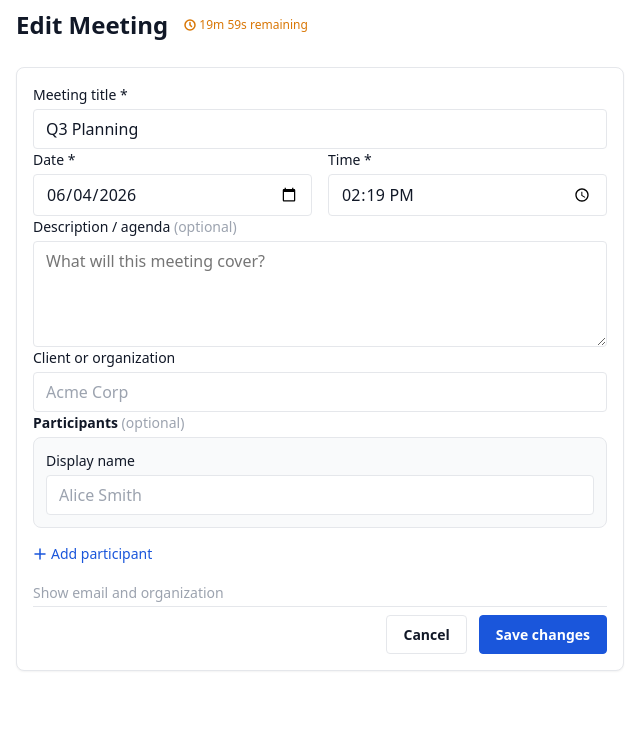
EditPage — server validation errors (FR-15) › shows "not editable" error when server says edit window expired
What coordinates should you click on to do the following:
click the button "Save changes"
I would click on:
 (543, 634)
Its box is x1=479 y1=615 x2=607 y2=654.
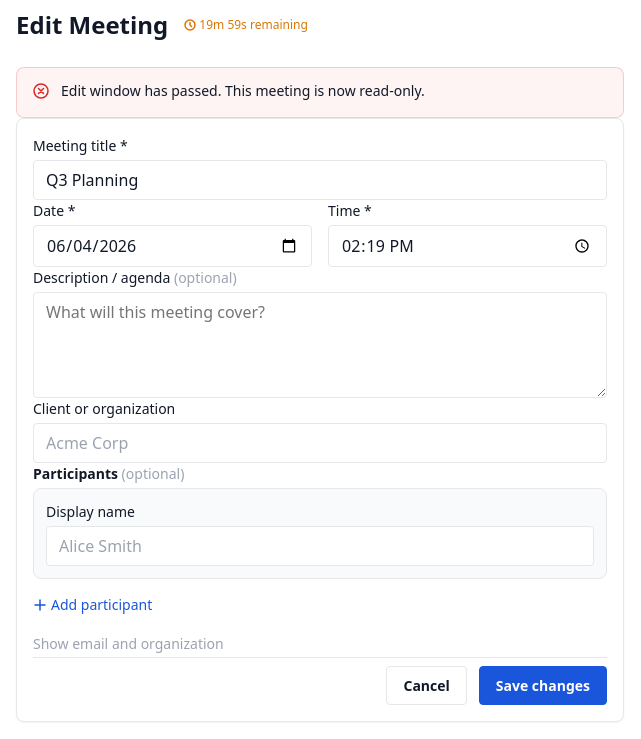
Expected: the text "Edit window has passed. This meeting is now read-only." is shown, x1=61 y1=81 x2=425 y2=100
